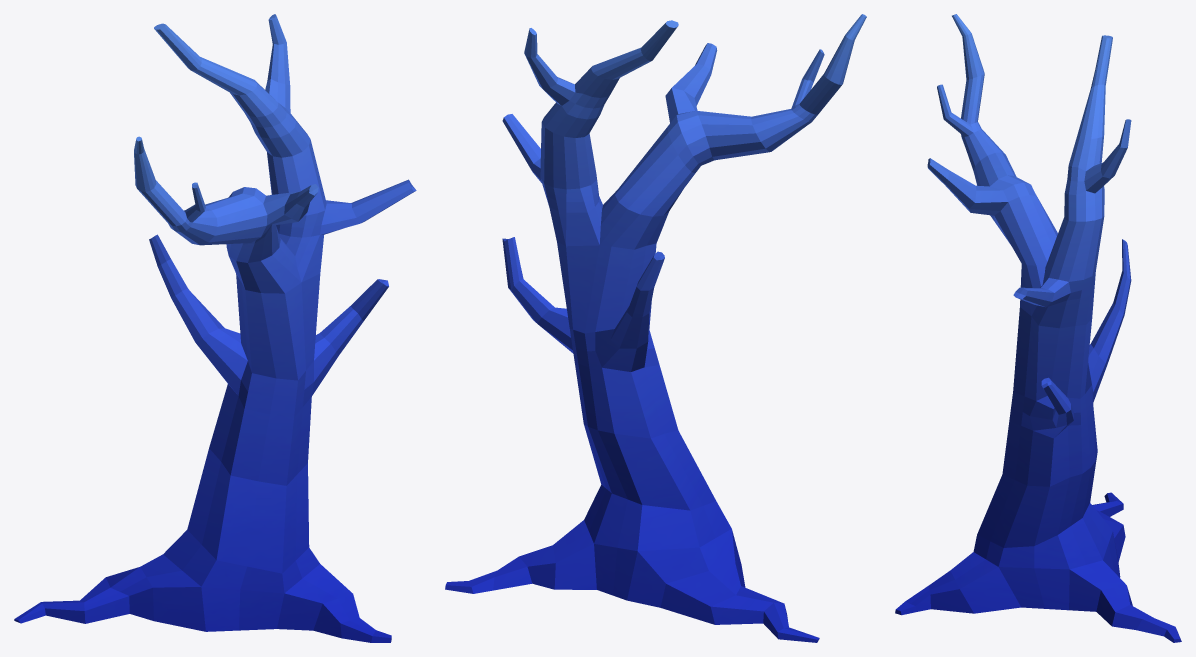
Rendered from tree_3.fbx.
The picture shows the model from 3 angles, left to right: view 1: azimuth 30°, elevation 25°; view 2: azimuth 150°, elevation 25°; view 3: azimuth 270°, elevation 25°; orthographic projection. The views are drawn at different scales.
Visible parts, largest first — view 1: tree_05; view 2: tree_05; view 3: tree_05.
Boxes of the visible parts, box(x1,y1,x2,y2) form: tree_05: box(14, 14, 416, 642); tree_05: box(445, 14, 866, 642); tree_05: box(895, 14, 1181, 642).
Bounding box in the file's own units: 225 × 344 × 170.
